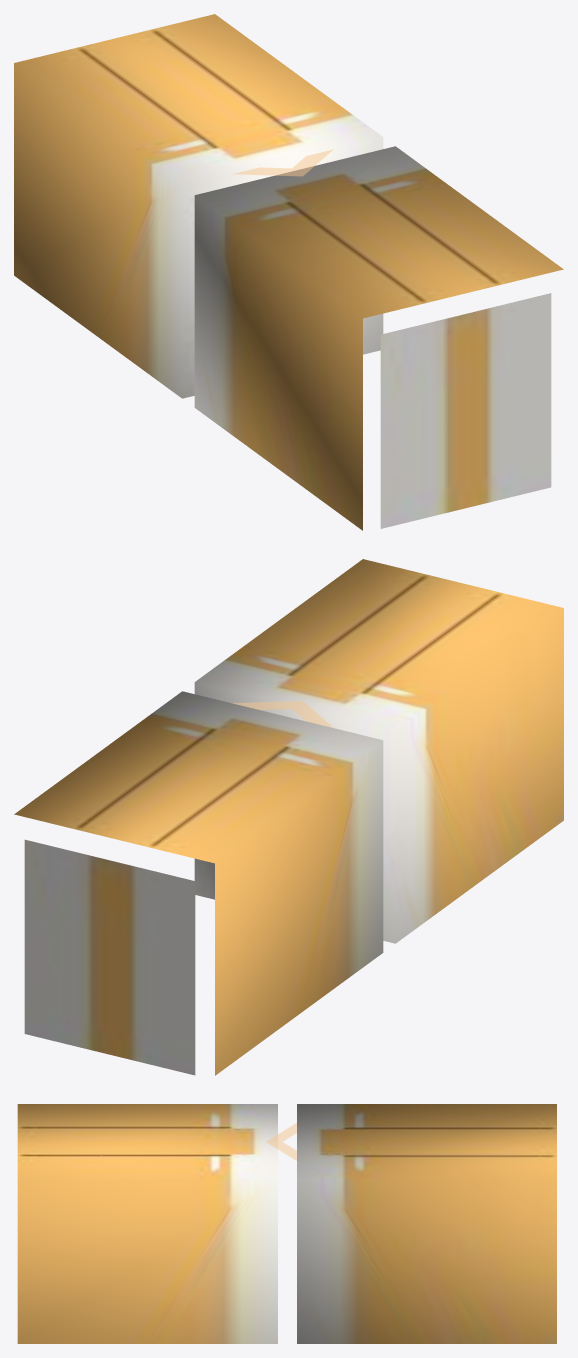
The model's file is sorter-mk1-lod2.glb.
3 views of the same model, one above another, from view 1: azimuth 30°, elevation 25°; view 2: azimuth 150°, elevation 25°; view 3: azimuth 270°, elevation 25° (orthographic). The views are drawn at different scales.
Visible parts, largest first — view 1: ARail, BRail, BCap, arrow; view 2: BRail, ARail, ACap, arrow; view 3: BRail, ARail, arrow.
Part boxes in pixels (<box>): ARail: <box>14,14,383,398</box>; BRail: <box>194,146,563,530</box>; BCap: <box>380,293,551,528</box>; arrow: <box>232,149,333,176</box>; BRail: <box>194,559,563,943</box>; ARail: <box>14,691,383,1075</box>; ACap: <box>24,839,195,1075</box>; arrow: <box>233,701,333,727</box>; BRail: <box>17,1104,277,1343</box>; ARail: <box>297,1104,556,1343</box>; arrow: <box>266,1123,296,1160</box>.
Size of the model in its own units: 0.99 by 1 by 3.04.
Materials: 2 (2 with a texture image).
